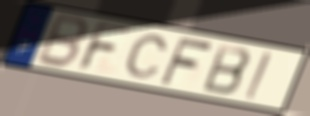B: (33, 11, 93, 71), (199, 43, 253, 97)
C: (122, 33, 170, 79)
F: (74, 20, 136, 74), (158, 35, 216, 86)
I: (243, 50, 274, 102)
